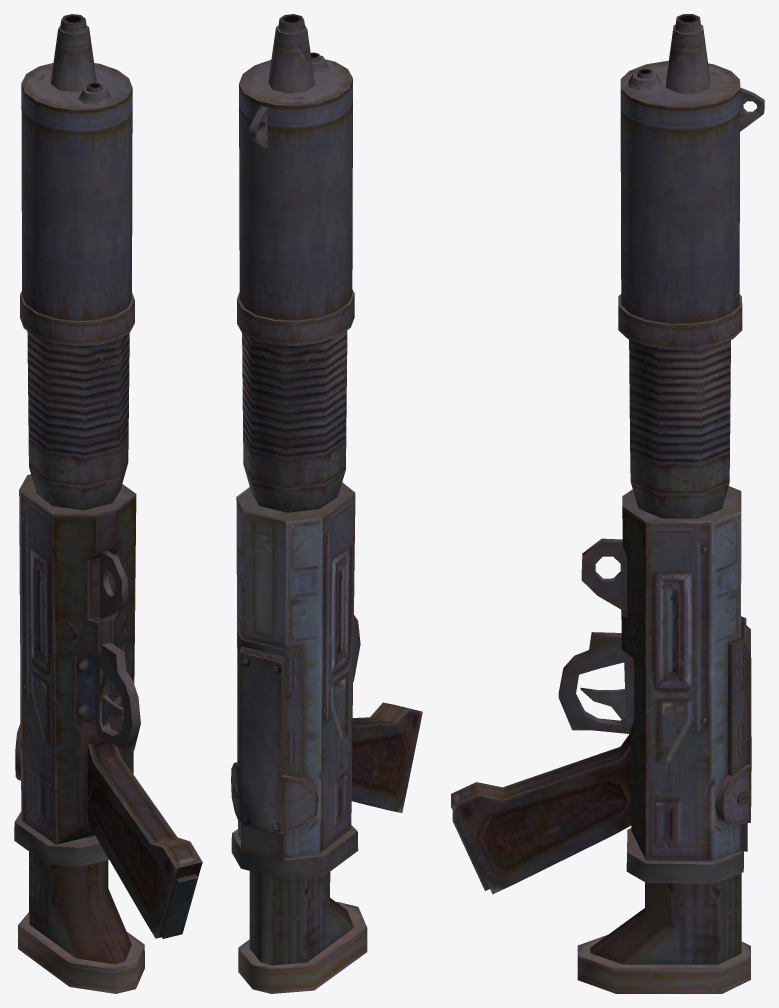
Rendered from rifle.glb.
3 renders of one model, left to right at view 1: azimuth 30°, elevation 25°; view 2: azimuth 150°, elevation 25°; view 3: azimuth 270°, elevation 25°, orthographic. The views are drawn at different scales.
Parts seen in each view (by area): view 1: rifle_low01_a01_v01; view 2: rifle_low01_a01_v01; view 3: rifle_low01_a01_v01.
Part boxes in pixels (box(x1,y1,x2,y2)): rifle_low01_a01_v01: box(14, 14, 202, 993); rifle_low01_a01_v01: box(231, 14, 422, 993); rifle_low01_a01_v01: box(451, 14, 764, 993).
Bounding box in the file's own units: 0.00867 × 0.0807 × 0.024.
Materials: 1 (1 with a texture image).
